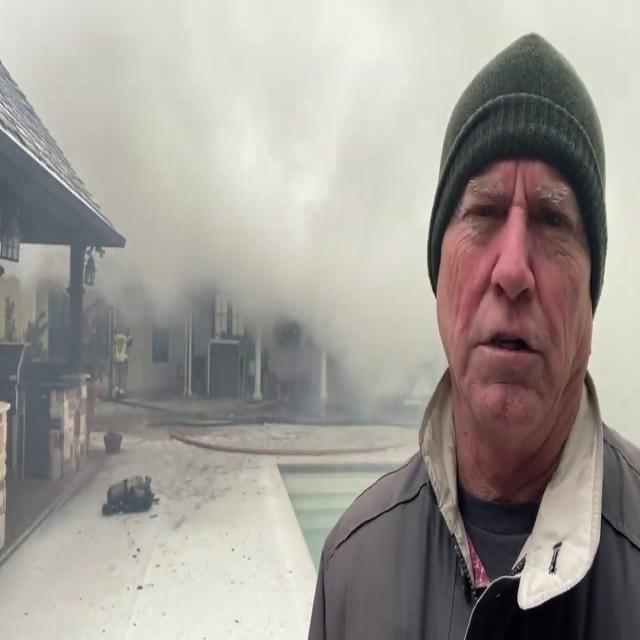Smoke: (6, 0, 457, 512), (576, 8, 640, 636)
